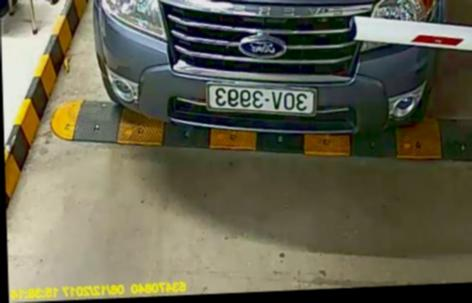License_Plate: (202, 77, 321, 117)
